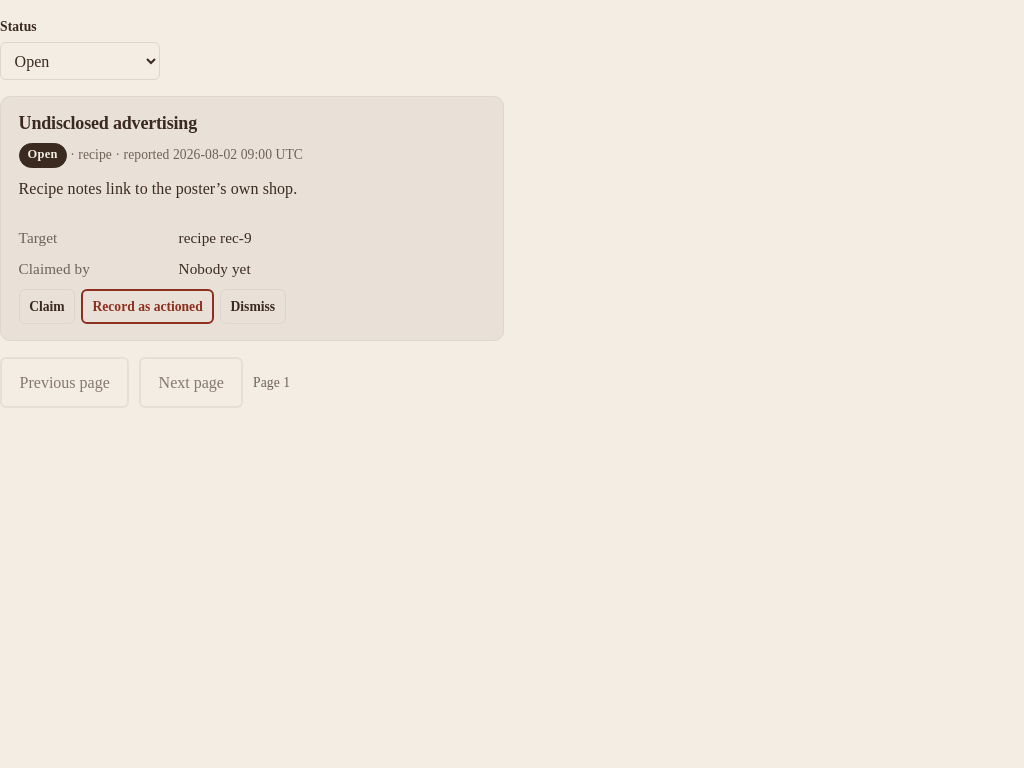
moderation queue › requires a resolution note before a report can be closed
The image size is (1024, 768).
Expected: the heading "Undisclosed advertising" is shown, [19,113,197,133]
Click the button "Dismiss". click: (253, 307)
box: [220,289,286,324]
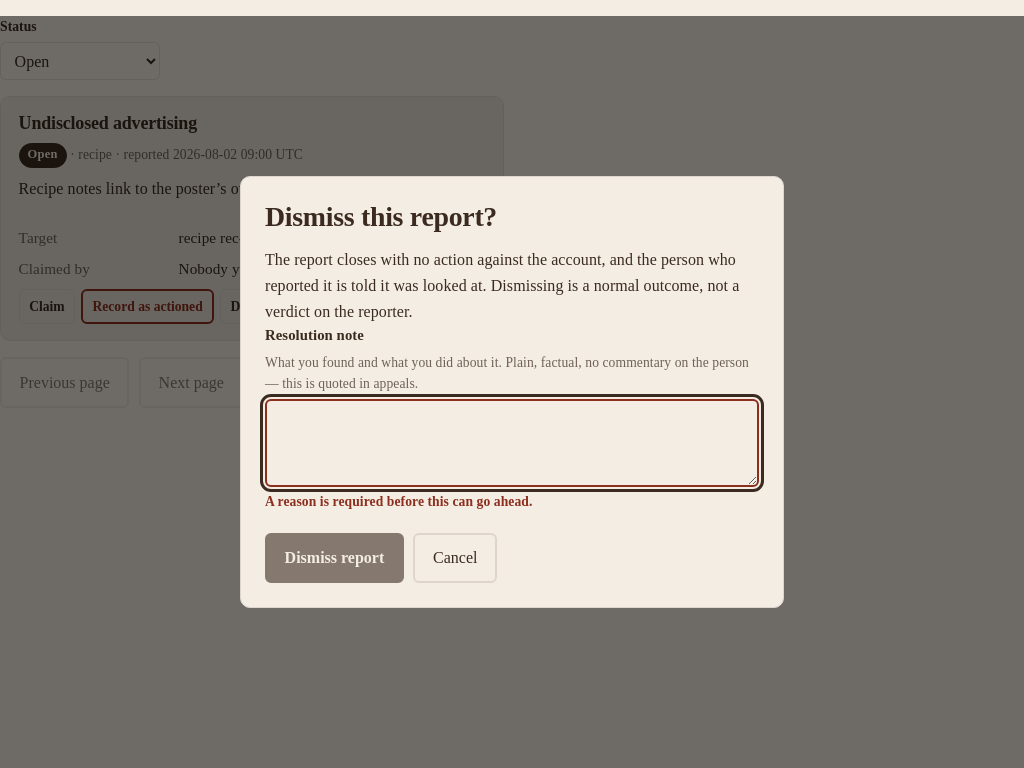
Expected: the text "not a verdict on the reporter" is shown, [265,251,739,320]
Expected: the button "Dismiss report" is disabled, [265,533,404,583]
Type "Link is a disclosed affiliate; within policy." into the text box labelled "Resolution note". click: (512, 443)
box: [265,399,759,487]
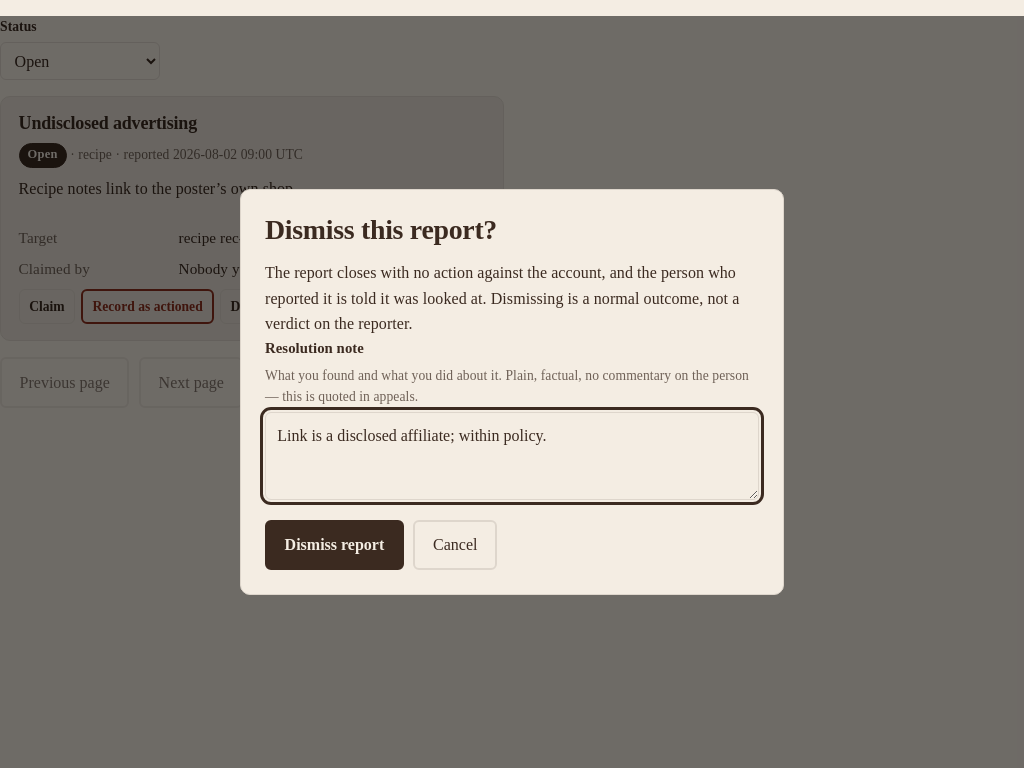
Expected: the button "Dismiss report" is enabled
Click the button "Dismiss report". click: (334, 545)
box: [265,520,404,570]
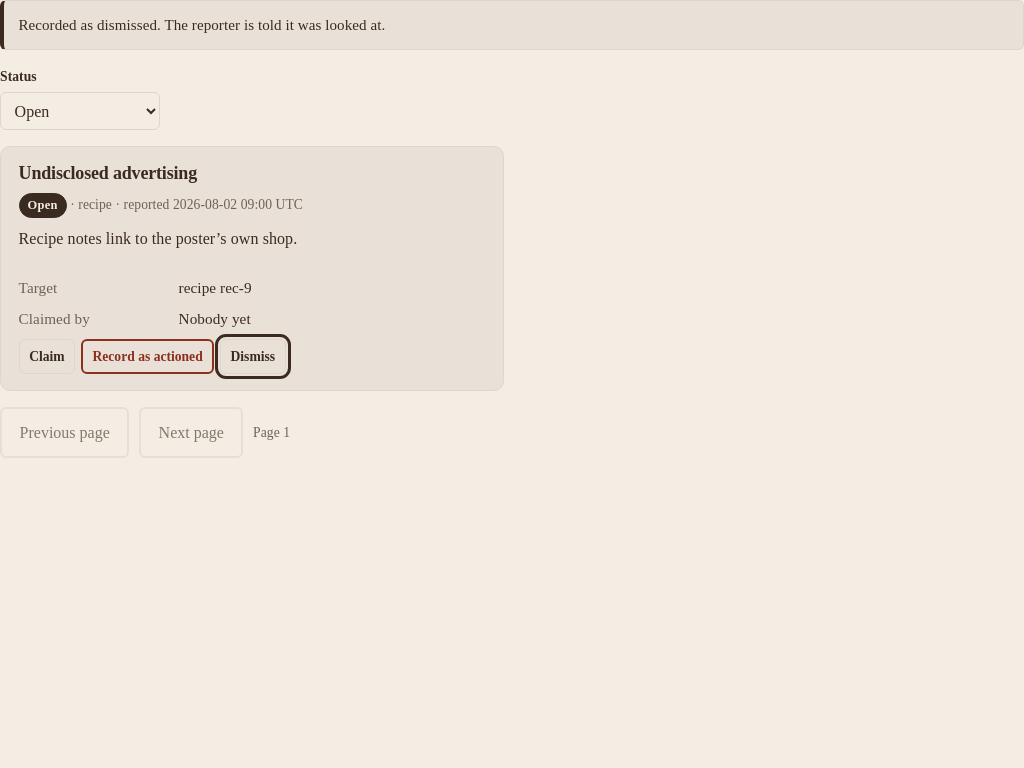
Expected: the text "Recorded as dismissed. The reporter is told it was looked at." is shown, [0,0,1023,50]
